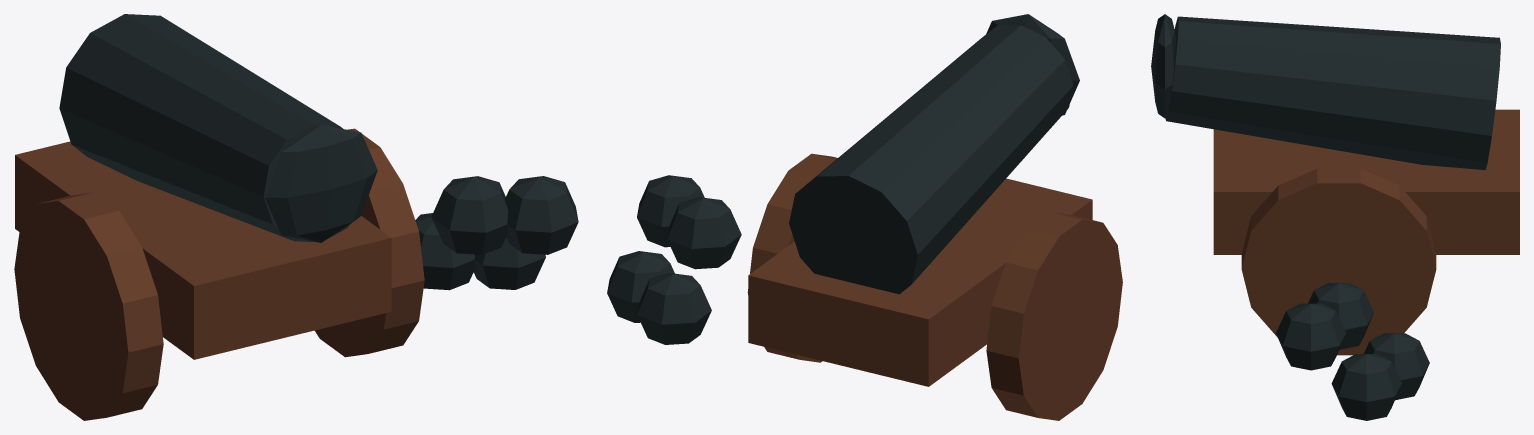
The model's file is ParkParkDecorCannon.obj.
3 renders of one model, left to right at view 1: azimuth 30°, elevation 25°; view 2: azimuth 150°, elevation 25°; view 3: azimuth 270°, elevation 25°, orthographic. The views are drawn at different scales.
Visible parts, largest first — view 1: ParkParkDecorCannon; view 2: ParkParkDecorCannon; view 3: ParkParkDecorCannon.
Part boxes in pixels (x1=…): ParkParkDecorCannon: x1=14, y1=14, x2=578, y2=420; ParkParkDecorCannon: x1=607, y1=14, x2=1122, y2=420; ParkParkDecorCannon: x1=1151, y1=14, x2=1519, y2=420.
Bounding box in the file's own units: 3.46 × 2.2 × 2.65.
